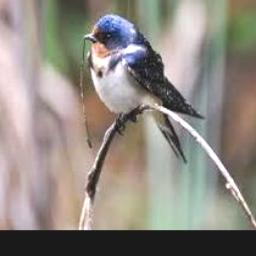Swallow: (83, 15, 205, 163)
